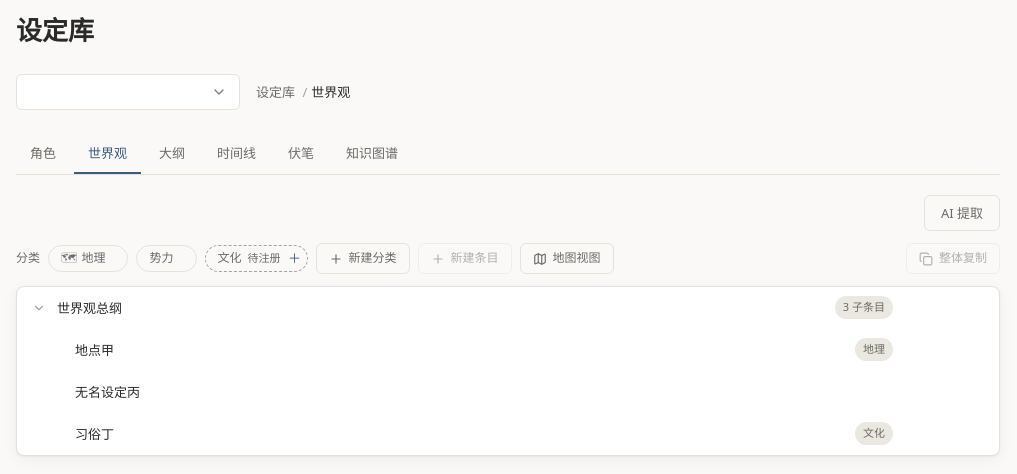
Test: #1334 ①C — abstract 分类条目移出列表页主树 › 选中 abstract 分类（势力）→ 该分类条目在筛选视图可见
This screenshot has width=1017, height=474.
Expected: the element with test id "world-node-root" is shown, [29, 296, 893, 319]
Expected: the text "地点甲" is shown, [75, 341, 114, 359]
Click the button with test id "world-cat-filter-势力": click(162, 259) [150, 248, 174, 269]
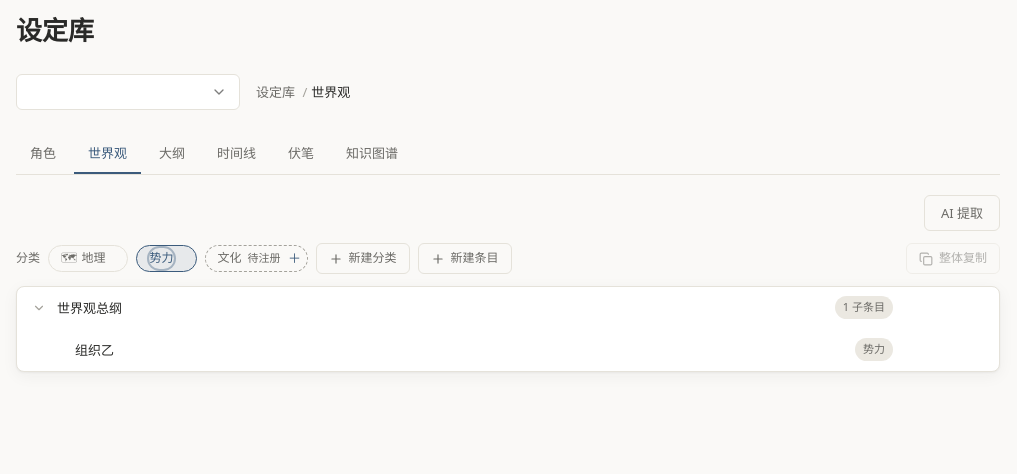
Result: the text "组织乙" is shown at [75, 341, 114, 359]
